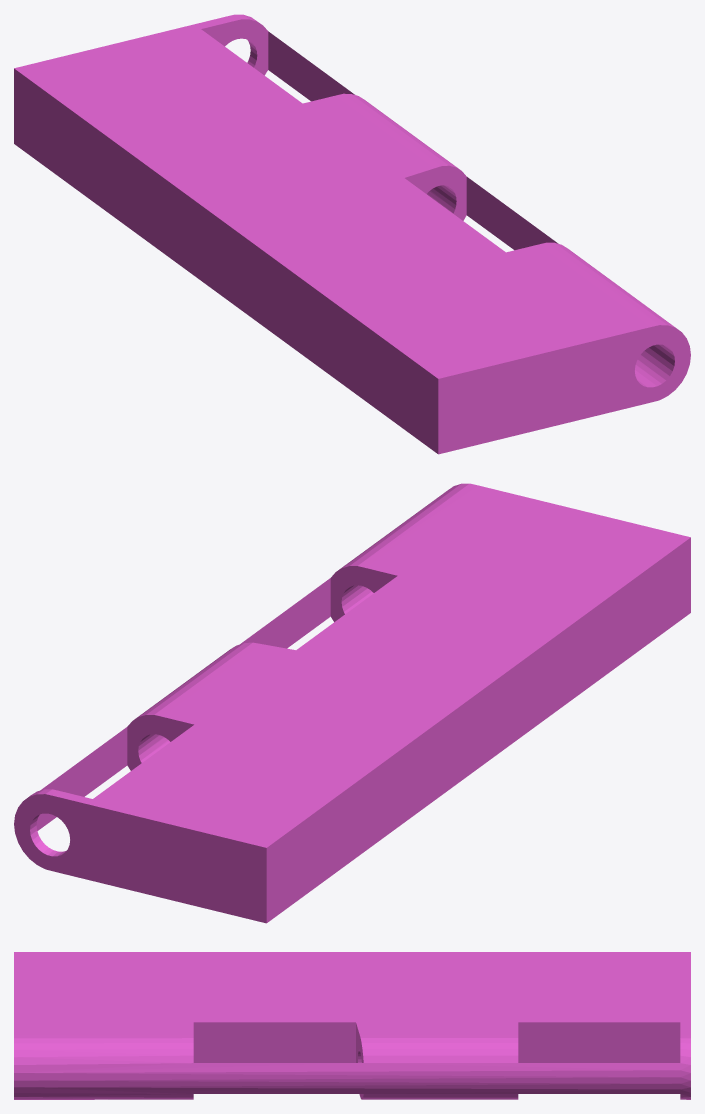
3 renders of one model, top to bottom at view 1: azimuth 30°, elevation 25°; view 2: azimuth 150°, elevation 25°; view 3: azimuth 270°, elevation 25°, orthographic. The views are drawn at different scales.
Parts seen in each view (by area): view 1: 0228_002_final; view 2: 0228_002_final; view 3: 0228_002_final.
Boxes of the visible parts, box(x1,y1,x2,y2) form: 0228_002_final: box(14, 14, 690, 454); 0228_002_final: box(14, 483, 690, 923); 0228_002_final: box(14, 952, 690, 1099).
Size of the model in its own units: 0.3492 by 0.0998 by 1.02.
